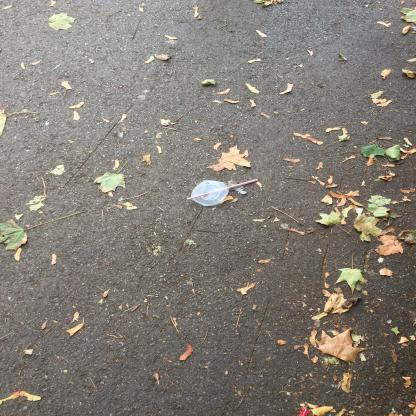Plastic: (187, 179, 258, 200), (191, 180, 229, 206)
Waste: (298, 408, 311, 416)
